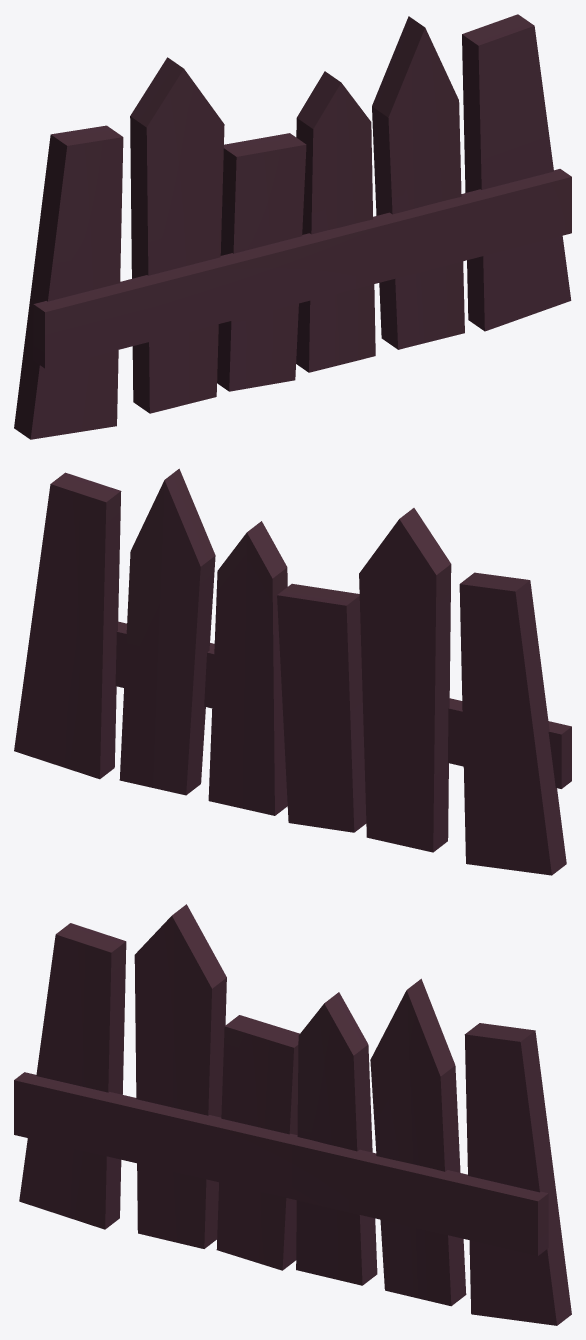
File: fence1.fbx
The picture shows the model from 3 angles, top to bottom: view 1: azimuth 30°, elevation 25°; view 2: azimuth 150°, elevation 25°; view 3: azimuth 330°, elevation 25°; orthographic projection. The views are drawn at different scales.
Parts seen in each view (by area): view 1: Cube.026; view 2: Cube.026; view 3: Cube.026.
Part boxes in pixels (x1,y1,x2,y2): Cube.026: (14, 14, 571, 439); Cube.026: (14, 468, 571, 875); Cube.026: (14, 904, 571, 1325).
Size of the model in its own units: 255 by 151 by 26.73.
